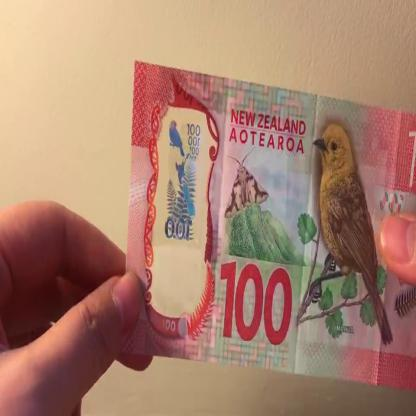100B: (162, 112, 200, 290)
